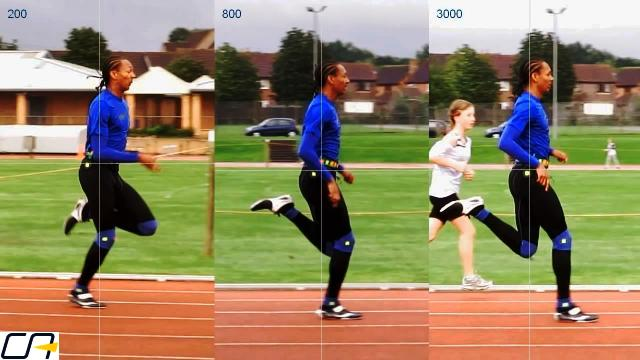berlari: (444, 57, 608, 331), (240, 53, 378, 324), (59, 46, 165, 320)
